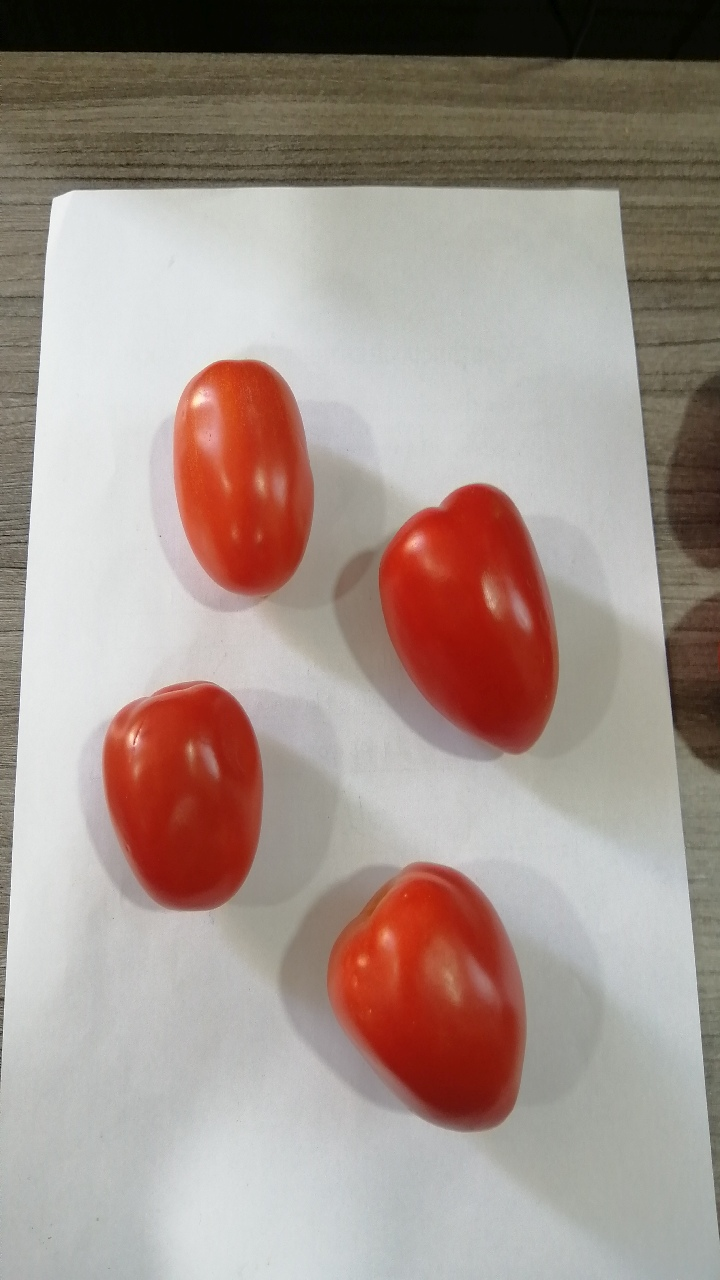tomateRojo: (306, 840, 546, 1142), (352, 446, 578, 749), (138, 348, 338, 609), (86, 666, 275, 934)
